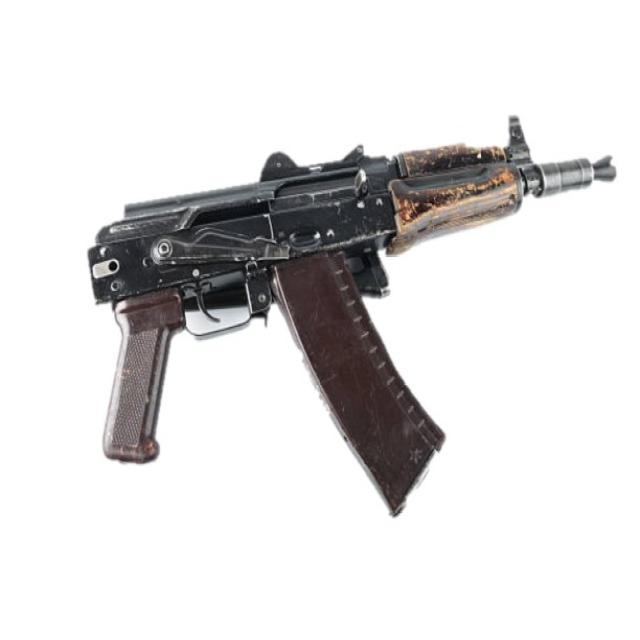rifle: (70, 104, 625, 528)
